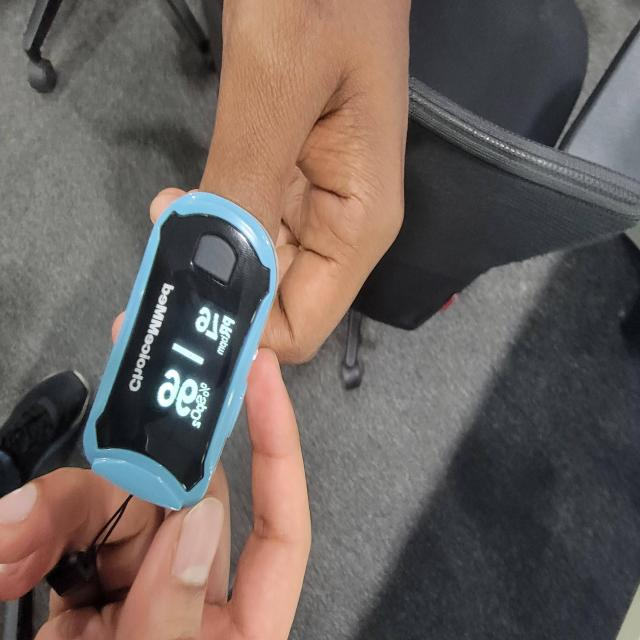spo2: (70, 191, 278, 514)
